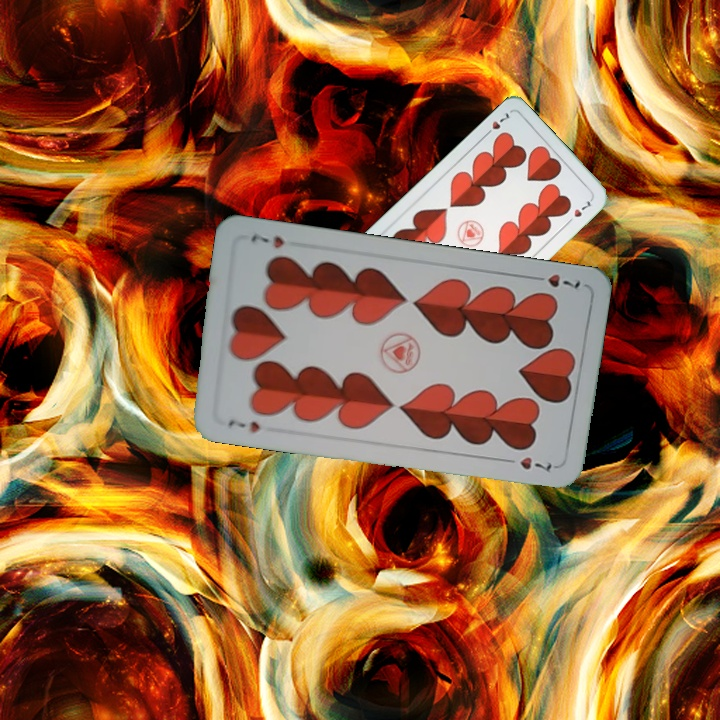H7: (527, 270, 583, 292), (480, 108, 512, 140), (224, 416, 263, 435)
